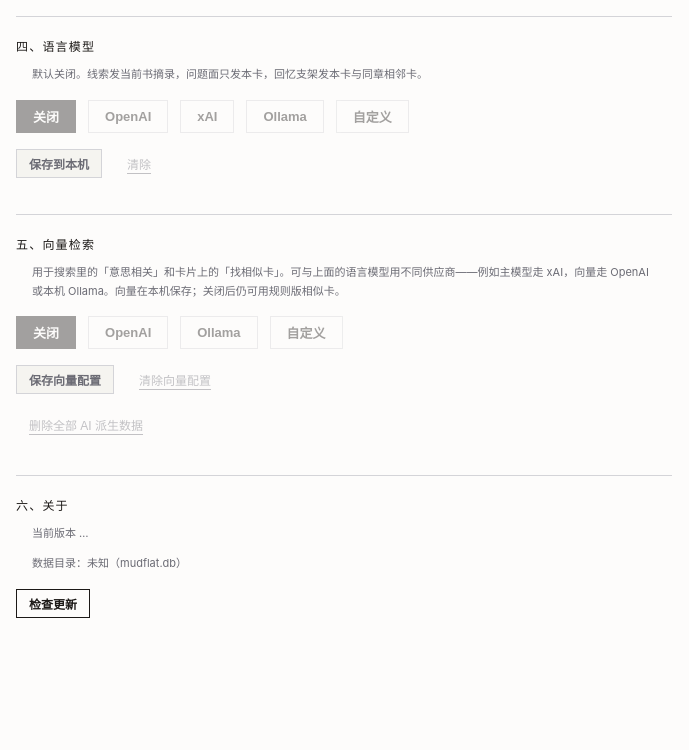
it: SettingsView 关于与更新 › 下载过程中把百分比写到画面，不会一直停在 0%
The image size is (689, 750).
(page scrolled)
Click the button "检查更新". click: (53, 603)
box: [16,589,90,618]
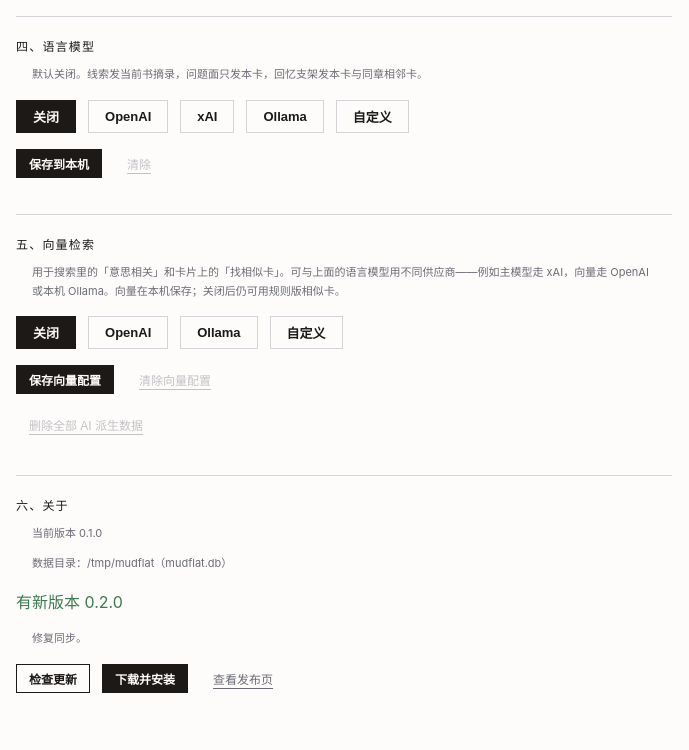
Click the button "下载并安装". click: (145, 678)
box: [102,664,188,692]
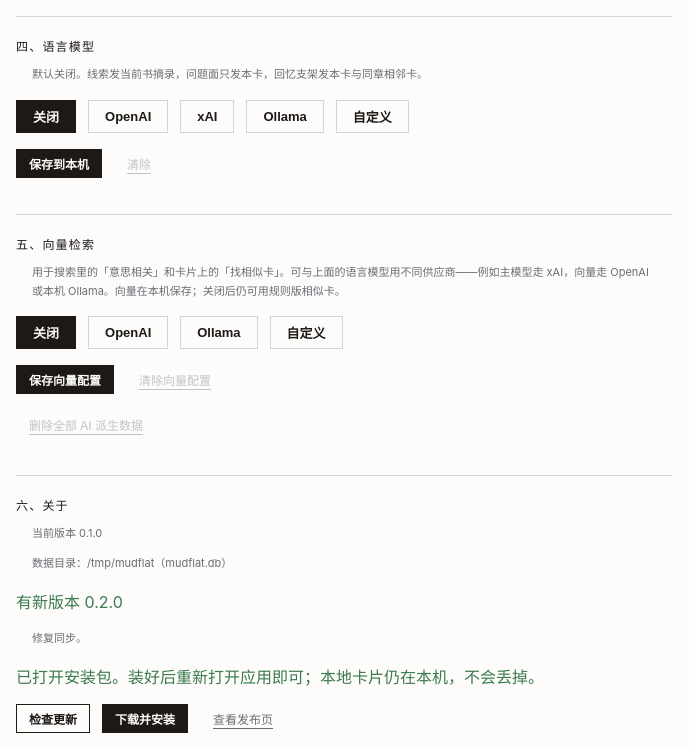
Check: the text "已打开安装包。装好后重新打开应用即可；本地卡片仍在本机，不会丢掉。" is shown, box [16,666,544,686]
